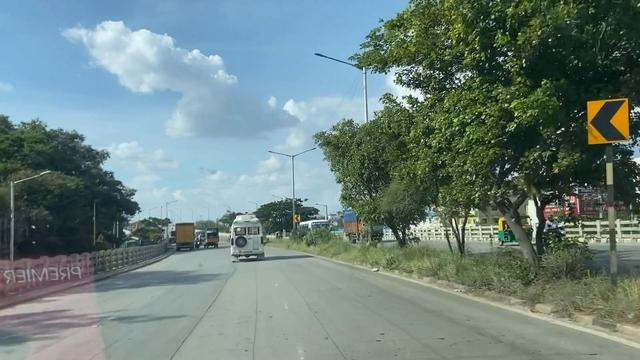HMV: (229, 214, 269, 258)
